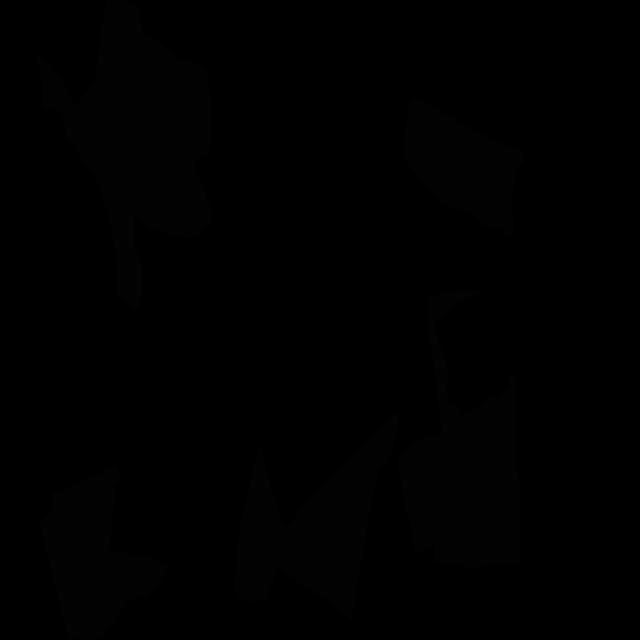cardboard: (233, 411, 399, 621), (398, 289, 520, 569), (75, 0, 212, 238), (36, 52, 143, 311), (38, 465, 169, 640), (404, 98, 524, 236)
